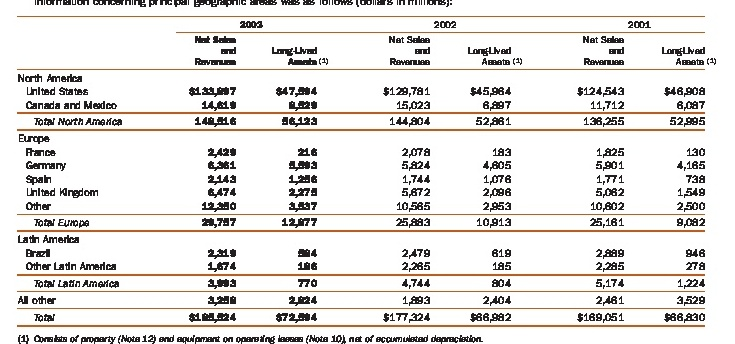table: (0, 0, 735, 344)
